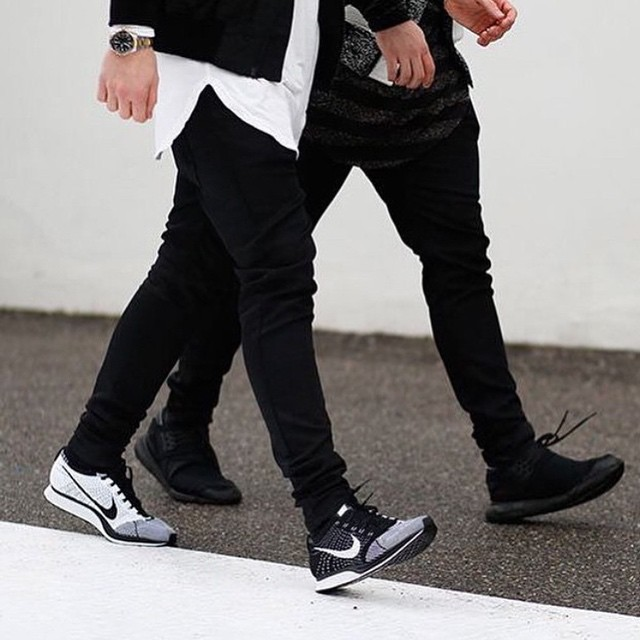sneaker: (291, 483, 445, 609), (473, 419, 635, 532), (40, 436, 191, 555), (133, 409, 252, 510)
